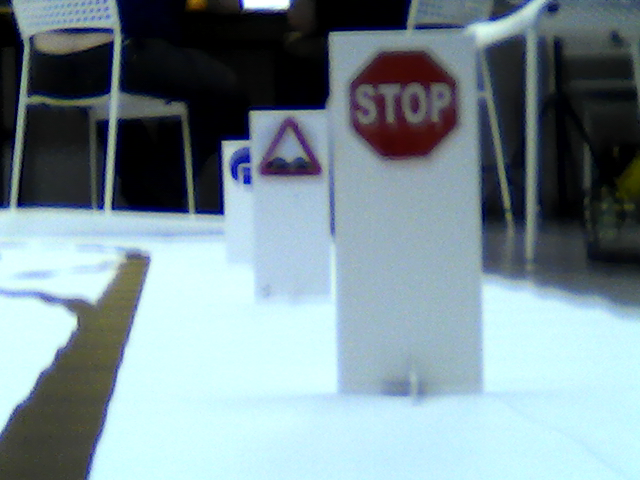Nerov: (258, 116, 324, 180)
Stop: (349, 47, 461, 164)
